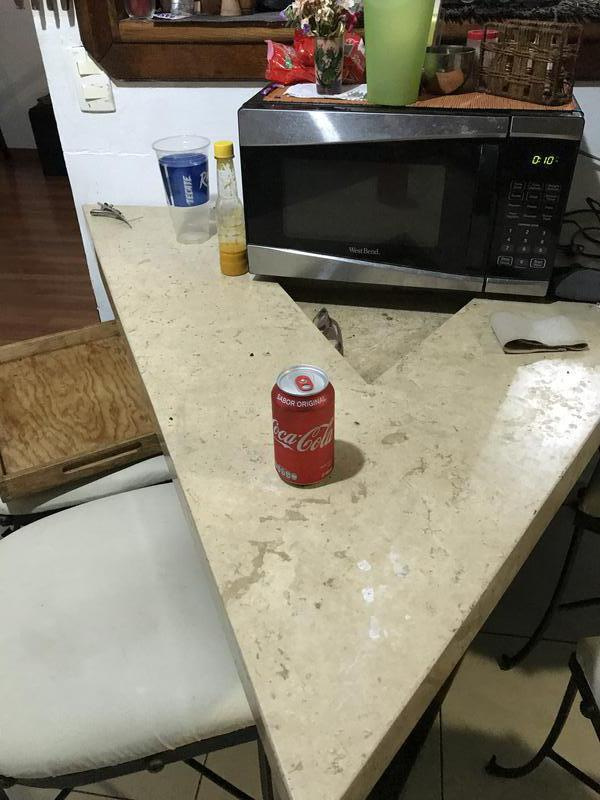coca_cola: (270, 367, 335, 488)
